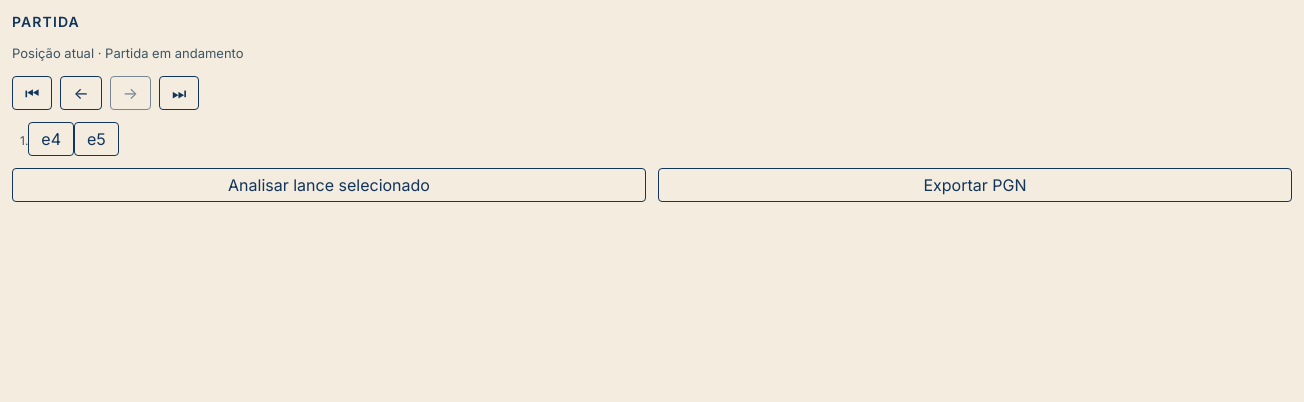
Test: mate terminal é separado de CP
Click the button "Analisar lance selecionado". click: coordinates (329, 185)
box: [12, 168, 646, 202]
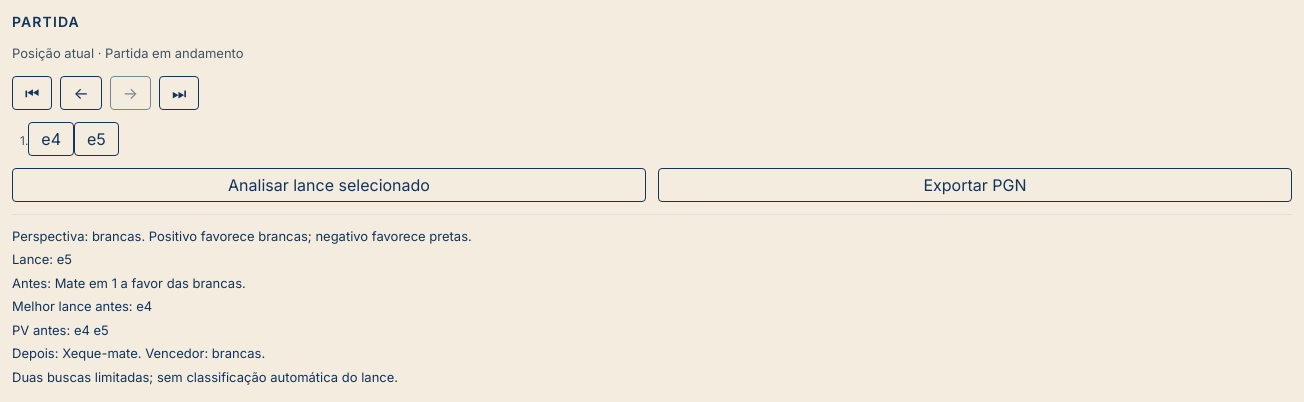
Expected: the text "Antes: Mate em 1 a favor das brancas." is shown, [12, 275, 246, 291]
Expected: the text "Depois: Xeque-mate. Vencedor: brancas." is shown, [12, 345, 265, 361]
